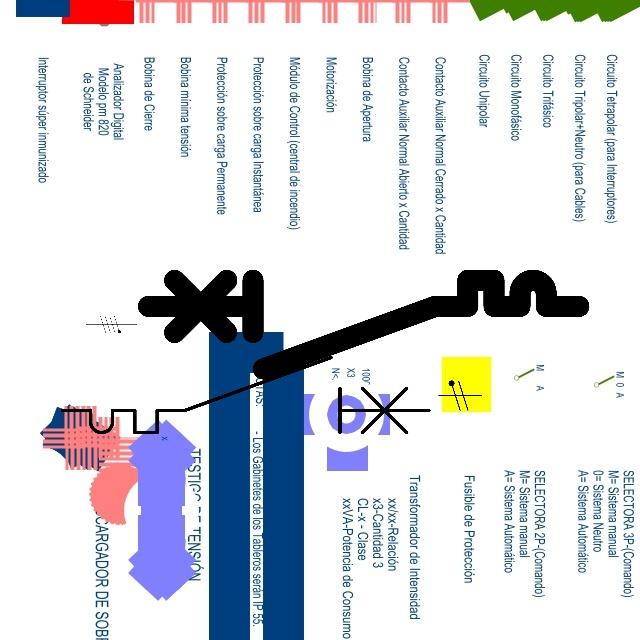interruptor_termomagnetico: (137, 269, 589, 379), (53, 348, 439, 442)
